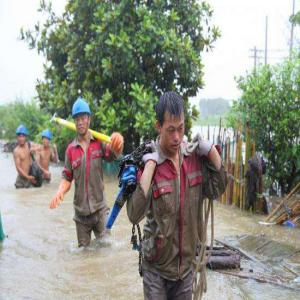blue: (71, 98, 92, 136), (16, 126, 29, 147), (41, 129, 52, 148)
none: (158, 91, 188, 152)
